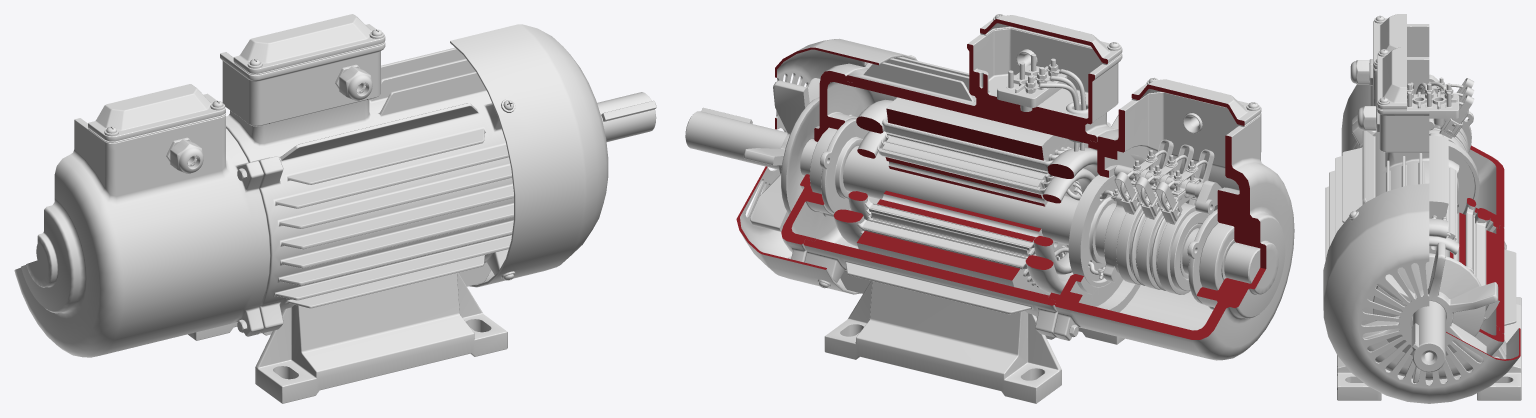
Rendered from Asynchronous_engine_with_phase_rotor_srez.fbx.
3 renders of one model, left to right at view 1: azimuth 30°, elevation 25°; view 2: azimuth 150°, elevation 25°; view 3: azimuth 270°, elevation 25°, orthographic. The views are drawn at different scales.
Visible parts, largest first — view 1: Electro_engine_main_corpus, Corpus_uzla_tokosyema, Kolpak_ventilyator_outer, Kolodka_cap, Uzel_tokosyema_cap, Val, Fixator_cap_2, Fixator_cap_1; view 2: Electro_engine_main_corpus, Corpus_uzla_tokosyema, Val, Stator_model, Rotor_model, Kolpak_ventilyator_outer, Ventilyator, Side_cap, Stator_windings_rings, Mounting_block_tokosyema_rings, Block_tokosyema_corpus, Rotor_windings_rings (+18 smaller); view 3: Kolpak_ventilyator_outer, Electro_engine_main_corpus, Ventilyator, Corpus_uzla_tokosyema, Stator_model, Val, Side_cap, Kolodka_cap, Kolodka_6_contacts, Mounting_block_tokosyema_rings, Uzel_tokosyema_cap, Rotor_model (+9 smaller).
Part boxes in pixels (x1,y1,x2,y2): Electro_engine_main_corpus: (188,42,513,403); Corpus_uzla_tokosyema: (14,115,270,357); Kolpak_ventilyator_outer: (450,24,608,287); Kolodka_cap: (233,14,385,73); Uzel_tokosyema_cap: (88,84,225,141); Val: (36,92,656,259); Fixator_cap_2: (170,139,203,173); Fixator_cap_1: (339,66,372,100); Electro_engine_main_corpus: (803,28,1124,403); Corpus_uzla_tokosyema: (1048,92,1294,360); Val: (685,107,1260,283); Stator_model: (856,97,1092,295); Rotor_model: (871,136,1077,256); Kolpak_ventilyator_outer: (736,38,917,294); Ventilyator: (743,78,820,231); Side_cap: (781,62,894,262); Stator_windings_rings: (833,99,1098,294); Mounting_block_tokosyema_rings: (1068,175,1201,287); Block_tokosyema_corpus: (1098,193,1208,290); Rotor_windings_rings: (848,131,1095,274); Kolpak_ventilyator_outer: (1323,183,1520,403); Electro_engine_main_corpus: (1325,57,1521,400); Ventilyator: (1362,242,1498,383); Corpus_uzla_tokosyema: (1341,24,1506,249); Stator_model: (1429,135,1499,320); Val: (1411,250,1449,372); Side_cap: (1361,285,1506,380); Kolodka_cap: (1377,47,1406,109); Kolodka_6_contacts: (1407,83,1459,124); Mounting_block_tokosyema_rings: (1448,141,1479,213); Uzel_tokosyema_cap: (1373,14,1406,69); Rotor_model: (1429,167,1474,274).
Size of the model in its own units: 0.8132 by 0.4229 by 0.2819.
